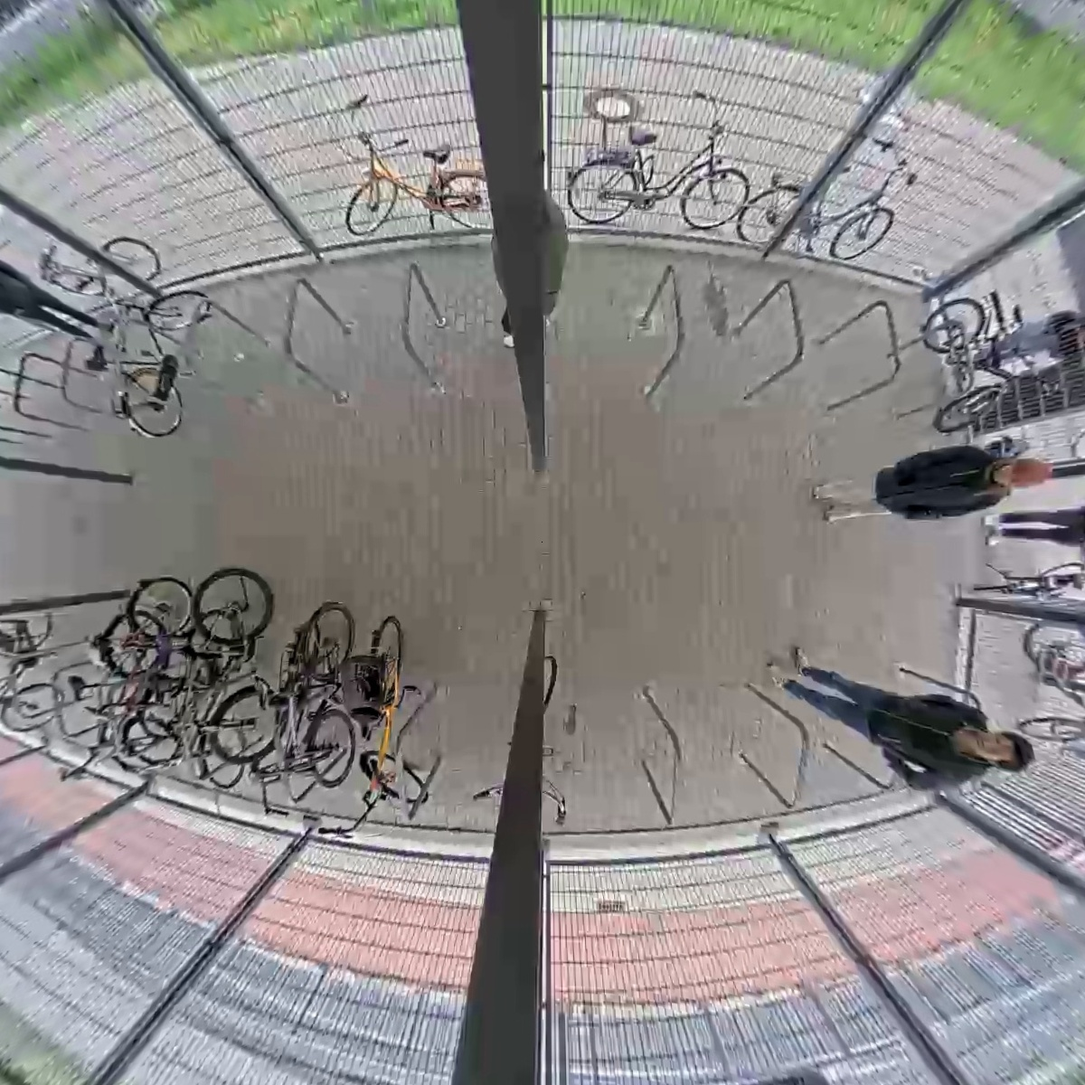bicylce: (195, 558, 296, 775), (93, 294, 214, 436), (93, 603, 182, 796), (122, 564, 207, 759), (355, 622, 437, 804), (293, 594, 360, 800), (924, 298, 1006, 434)
saddle: (351, 708, 379, 737), (269, 694, 289, 724), (62, 675, 85, 700), (153, 634, 170, 667), (84, 345, 106, 369), (1012, 304, 1025, 328)
